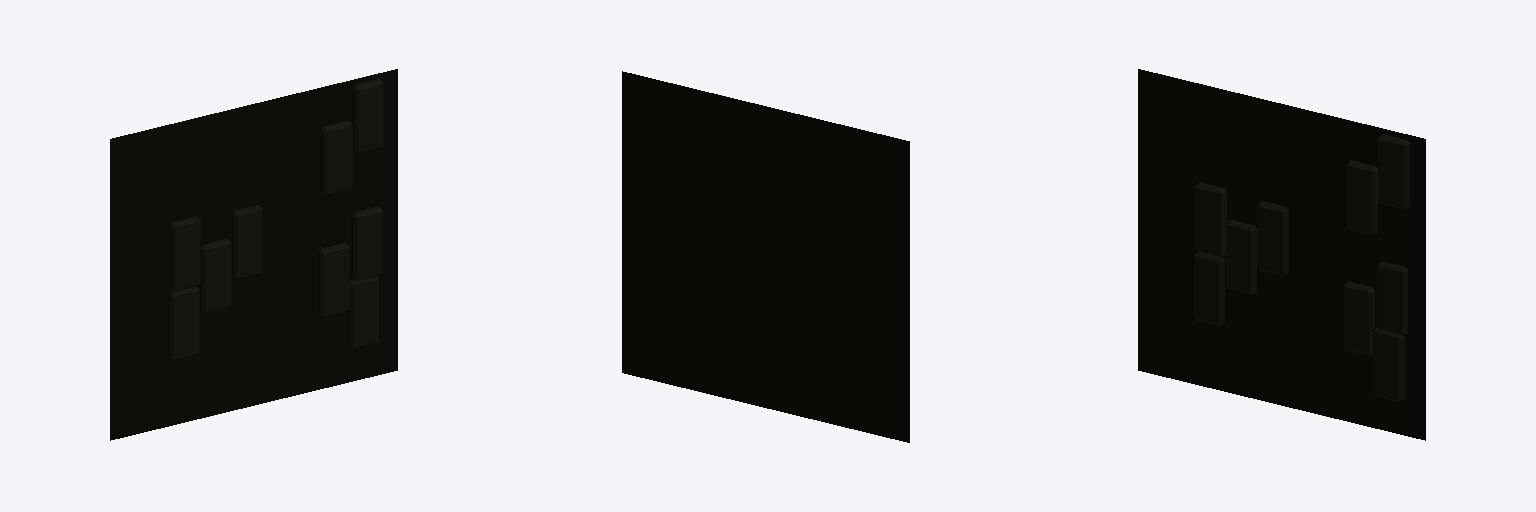
File: RoadTile003.obj
The picture shows the model from 3 angles: view 1: azimuth 30°, elevation 25°; view 2: azimuth 150°, elevation 25°; view 3: azimuth 330°, elevation 25°; orthographic projection.
Visible parts, largest first — view 1: Plane001, Brick002, Brick008, Brick004, Brick003, Brick006, Brick007, Brick, Brick005, Brick001; view 2: Plane001; view 3: Plane001, Brick, Brick007, Brick005, Brick002, Brick006, Brick004, Brick001, Brick003, Brick008.
Boxes of the visible parts, x1=… form: Plane001: x1=110, y1=69, x2=397, y2=440; Brick002: x1=321, y1=121, x2=352, y2=195; Brick008: x1=318, y1=243, x2=349, y2=317; Brick004: x1=351, y1=207, x2=382, y2=280; Brick003: x1=168, y1=286, x2=199, y2=360; Brick006: x1=200, y1=239, x2=231, y2=313; Brick007: x1=353, y1=79, x2=383, y2=153; Brick: x1=232, y1=205, x2=262, y2=279; Brick005: x1=170, y1=216, x2=200, y2=290; Brick001: x1=348, y1=276, x2=378, y2=348; Plane001: x1=622, y1=71, x2=909, y2=442; Plane001: x1=1138, y1=69, x2=1425, y2=440; Brick: x1=1257, y1=201, x2=1288, y2=275; Brick007: x1=1378, y1=134, x2=1409, y2=208; Brick005: x1=1195, y1=182, x2=1226, y2=256; Brick002: x1=1347, y1=160, x2=1377, y2=235; Brick006: x1=1226, y1=220, x2=1256, y2=294; Brick004: x1=1377, y1=261, x2=1407, y2=335; Brick001: x1=1373, y1=328, x2=1404, y2=401; Brick003: x1=1194, y1=252, x2=1224, y2=325; Brick008: x1=1344, y1=281, x2=1374, y2=355.
Size of the model in its own units: 32 by 32 by 0.6729.